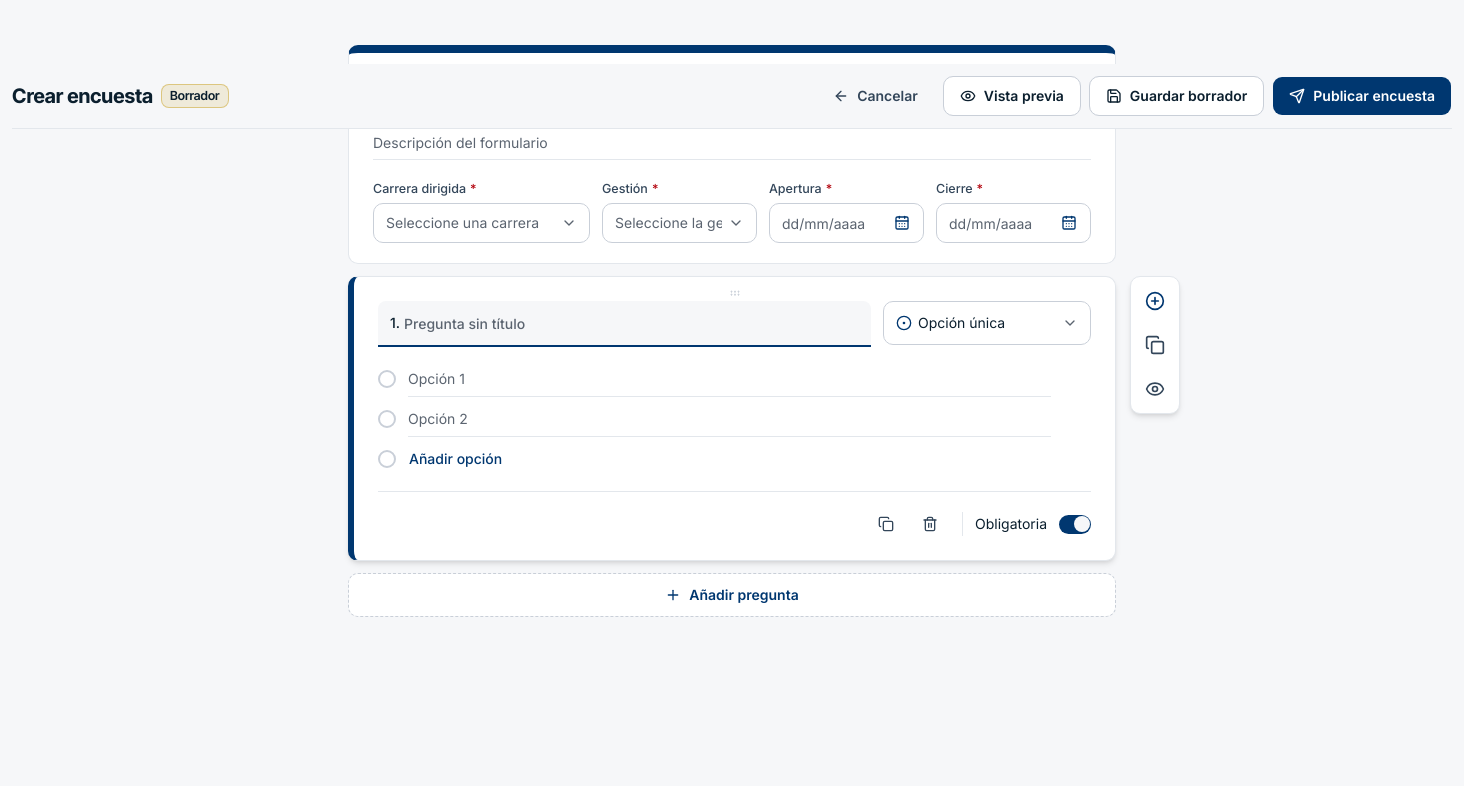
Test: CreateSurveyView › CA2: el botón + de la barra flotante inserta la pregunta debajo de la activa
This screenshot has width=1464, height=786.
In the field named "Enunciado de la pregunta 1": [632, 323] box [404,301,859,345], type "Primera"
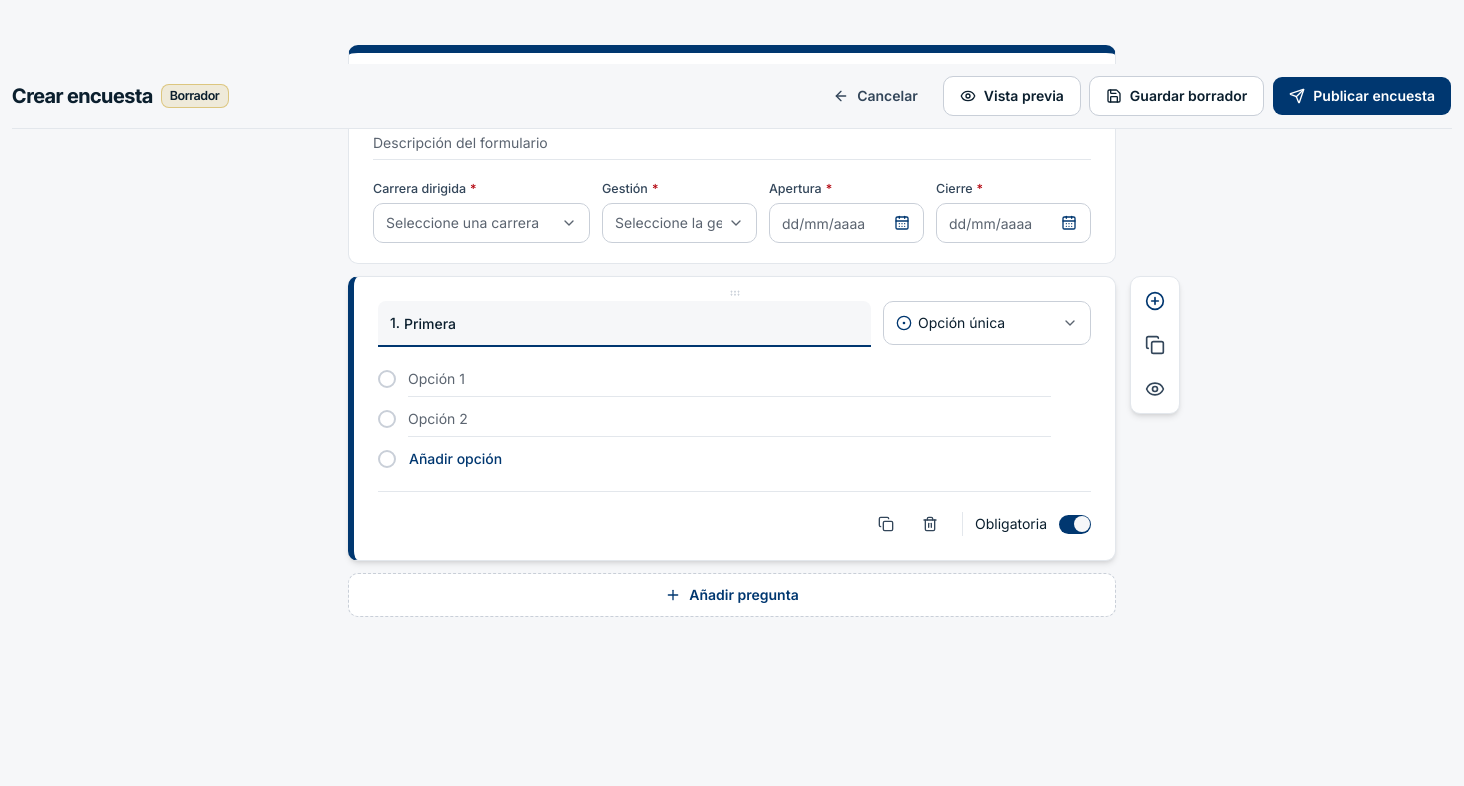
Click the button "Añadir pregunta": [732, 595] box [348,573,1116,617]
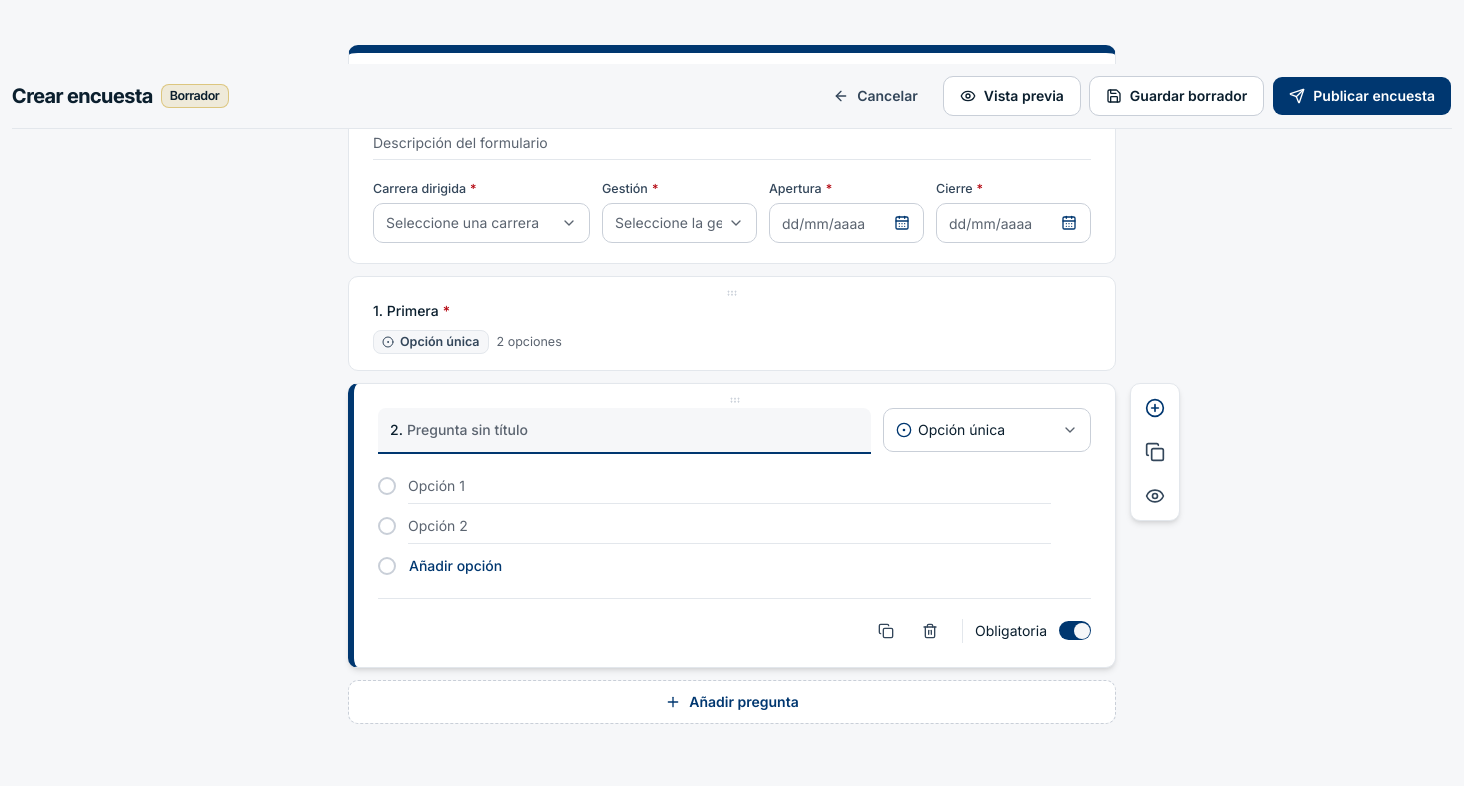
In the field named "Enunciado de la pregunta 2": [633, 430] box [407,408,859,452], type "Segunda"
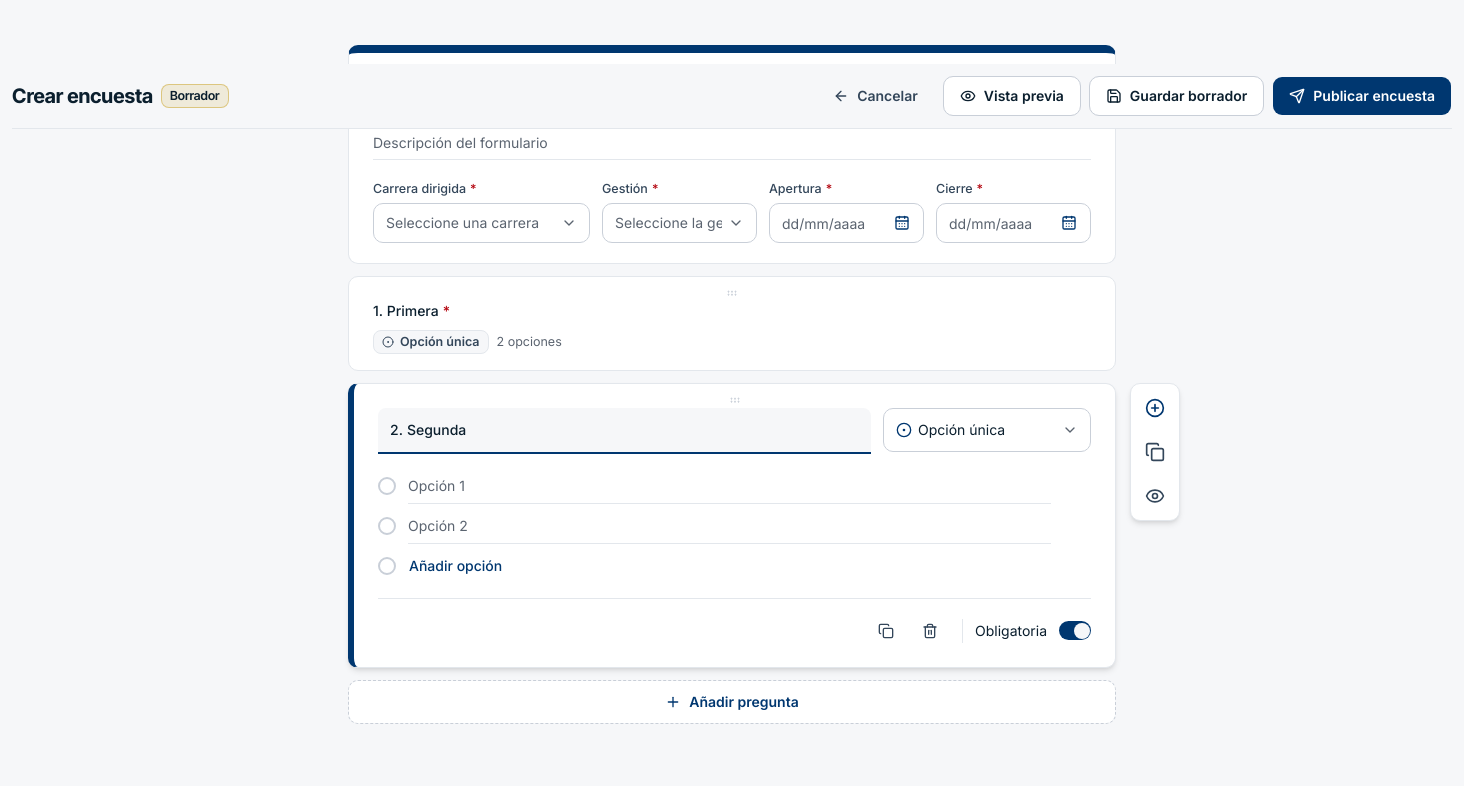
Click the button with aria-label "Editar pregunta 1": [467, 328] box [373,302,562,354]
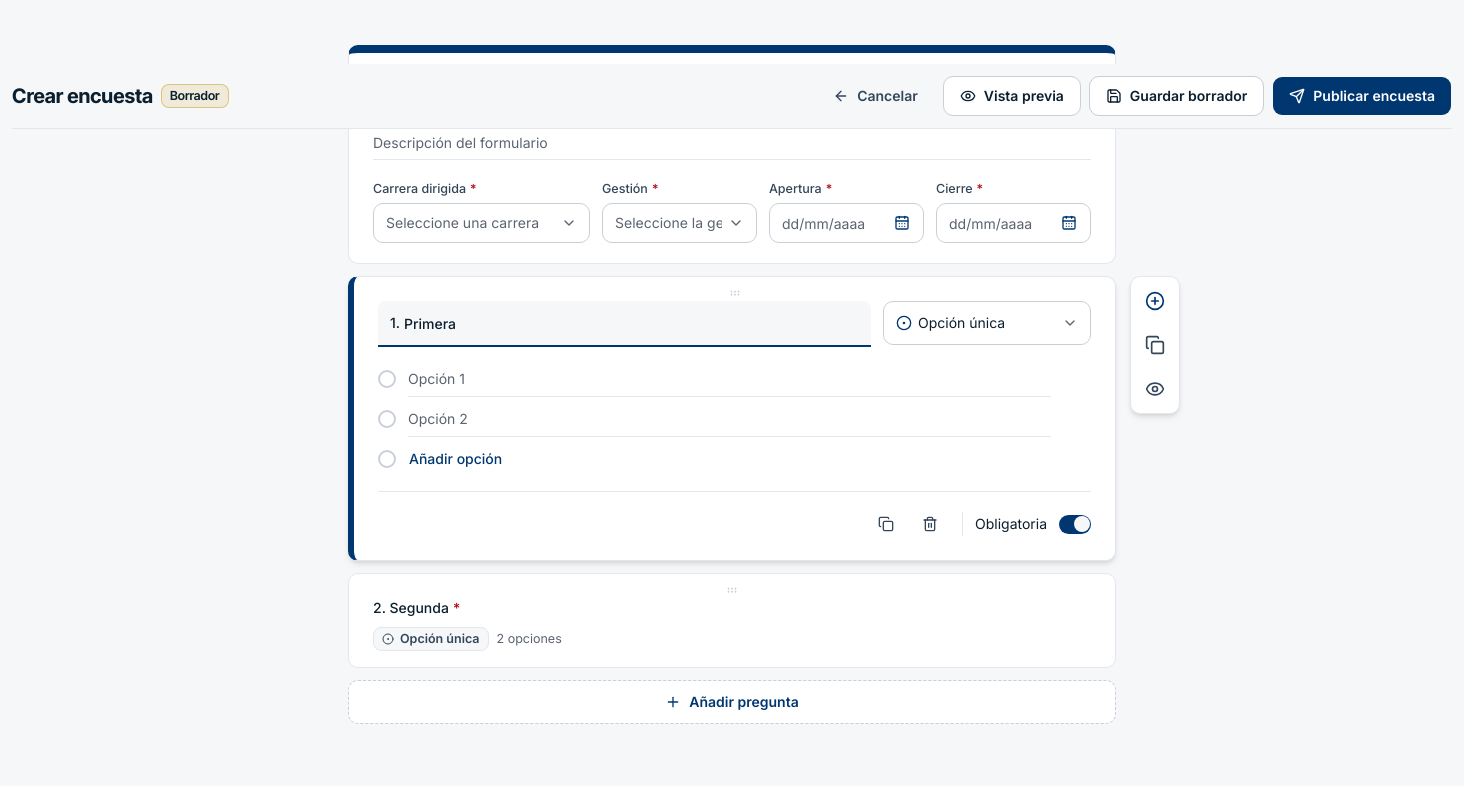
Click the button named "Añadir pregunta": [1155, 301] box [1135,281,1175,321]
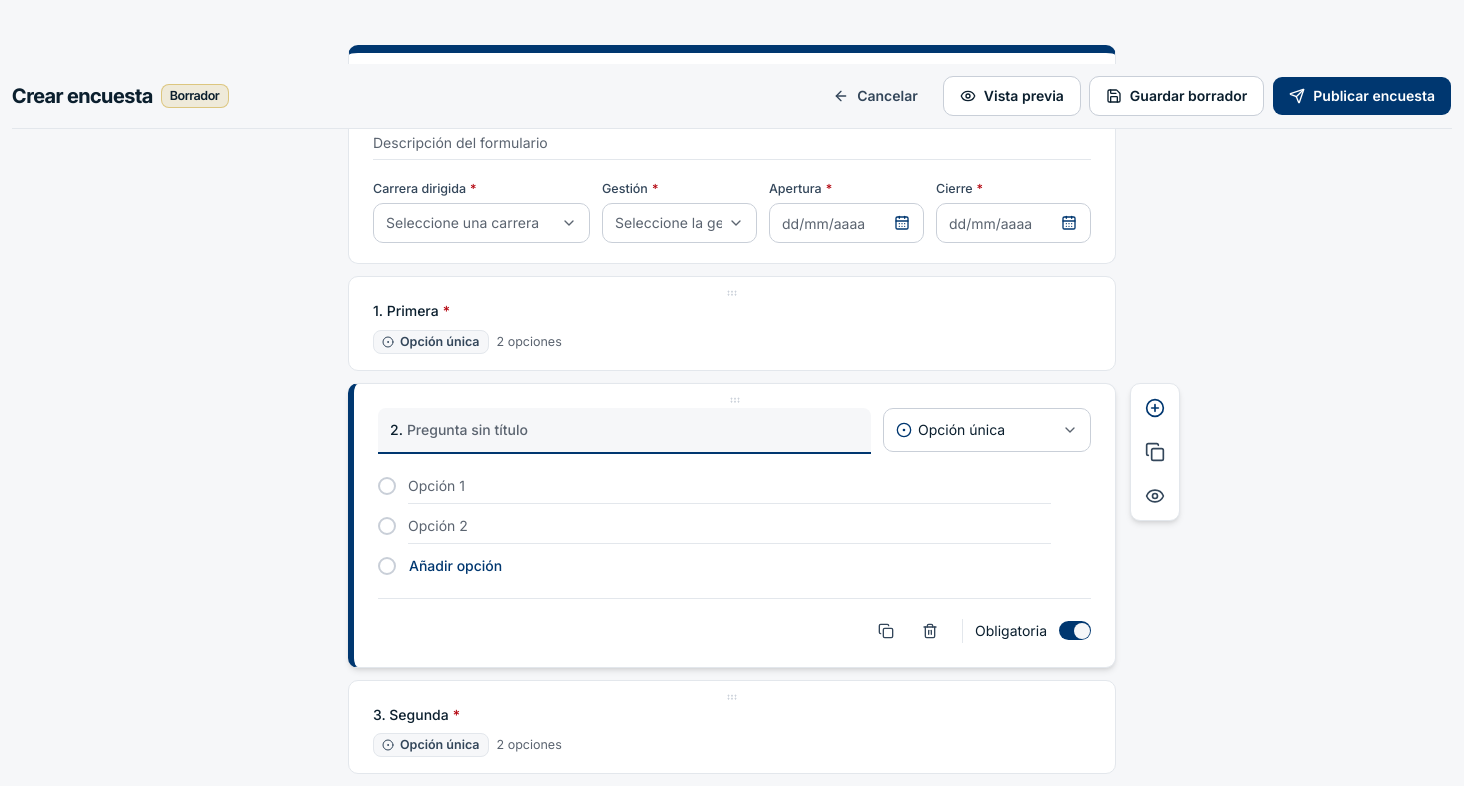
Now the button with aria-label "Editar pregunta 3" shows "Segunda", box [373,706,562,757]
Now the field named "Enunciado de la pregunta 2" is empty, box [407,408,859,452]
